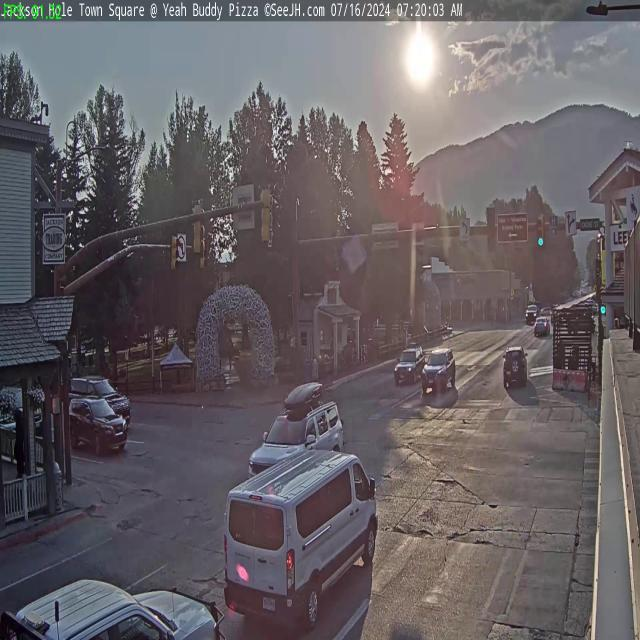suv: (247, 393, 343, 485), (68, 396, 130, 457), (69, 374, 129, 420), (421, 346, 457, 394), (394, 343, 423, 384), (503, 346, 528, 388), (534, 314, 552, 335)
traffic light: (260, 184, 273, 244), (190, 198, 203, 255), (486, 207, 496, 250), (170, 233, 179, 275), (537, 214, 546, 248)
van: (222, 446, 377, 640)
